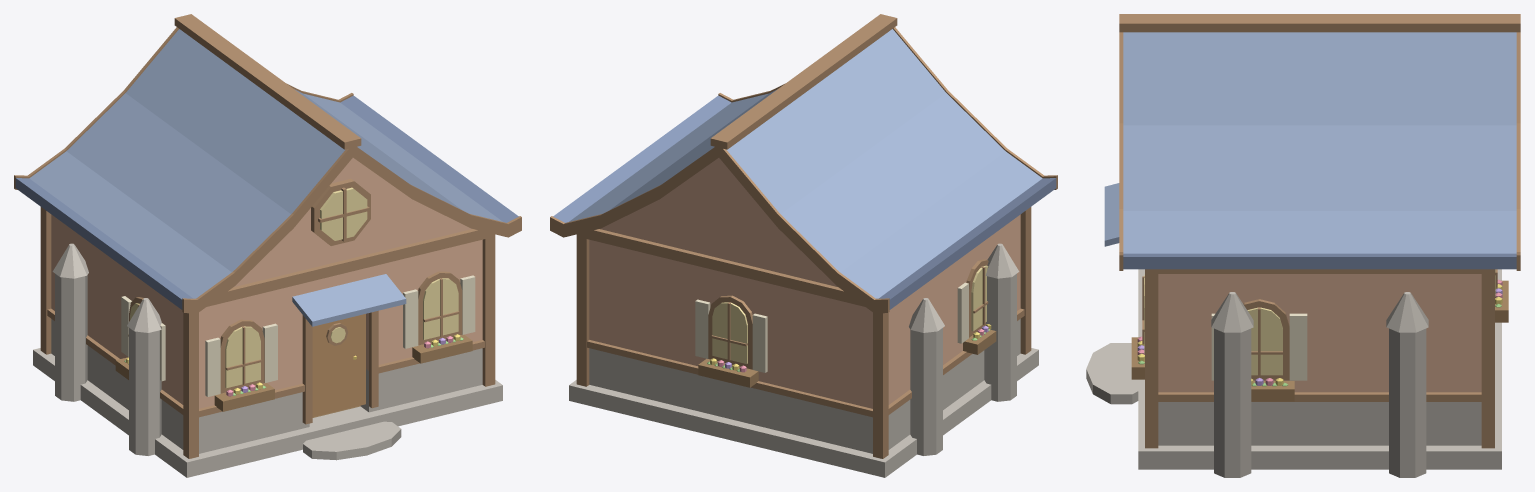
Rendered from chapel_brick.glb.
The picture shows the model from 3 angles, left to right: view 1: azimuth 30°, elevation 25°; view 2: azimuth 150°, elevation 25°; view 3: azimuth 270°, elevation 25°; orthographic projection. The views are drawn at different scales.
Parts seen in each view (by area): view 1: Player; view 2: Player; view 3: Player.
Part boxes in pixels (bbox=[...]): Player: bbox=[14, 14, 521, 477]; Player: bbox=[550, 14, 1057, 477]; Player: bbox=[1086, 14, 1520, 477].
Size of the model in its own units: 7.07 by 5.89 by 6.45.
